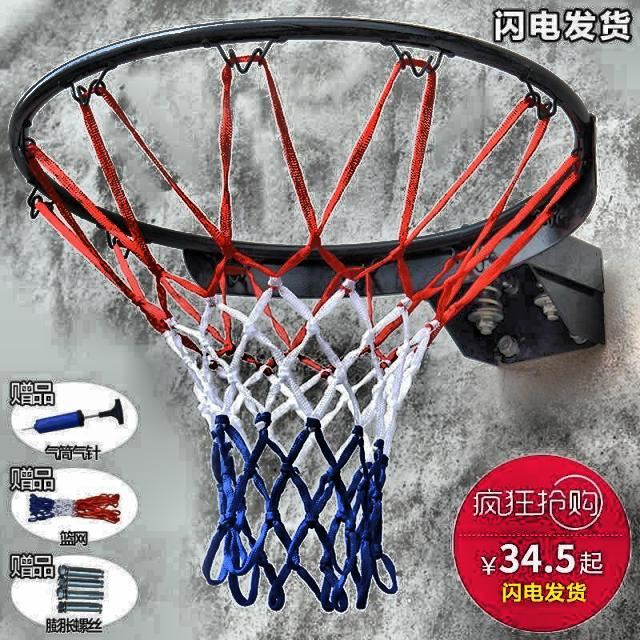rim: (20, 18, 593, 605)
